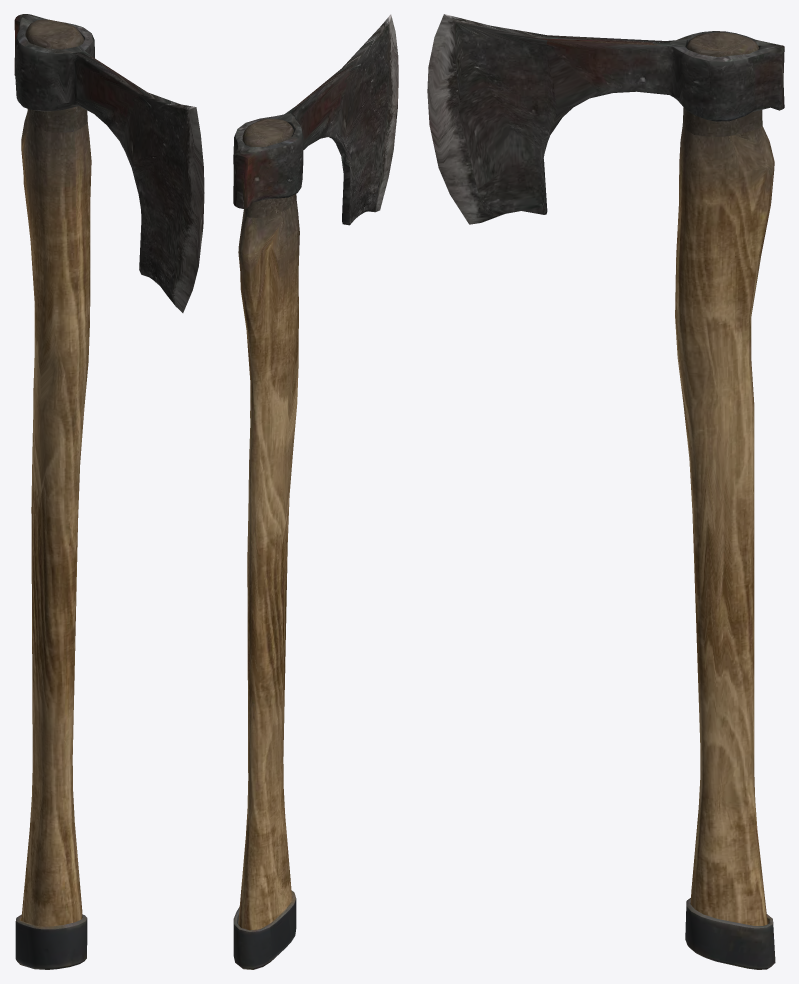
The model's file is wooden-axe.glb.
3 renders of one model, left to right at view 1: azimuth 30°, elevation 25°; view 2: azimuth 150°, elevation 25°; view 3: azimuth 270°, elevation 25°, orthographic. The views are drawn at different scales.
Visible parts, largest first — view 1: wooden_axe; view 2: wooden_axe; view 3: wooden_axe.
Part boxes in pixels (x1=…): wooden_axe: x1=14, y1=14, x2=204, y2=969; wooden_axe: x1=233, y1=14, x2=398, y2=969; wooden_axe: x1=427, y1=14, x2=784, y2=969.
Size of the model in its own units: 0.0471 by 0.6299 by 0.2142.
1 material, 1 textured.
